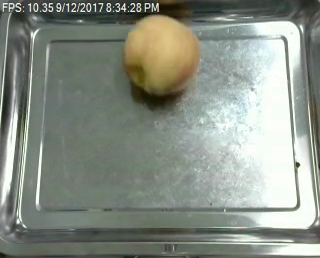Peach: (123, 13, 200, 96)
